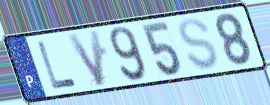5: (139, 19, 182, 78)
8: (215, 11, 253, 67)
9: (108, 25, 147, 83)
L: (35, 39, 78, 90)
S: (178, 16, 220, 71)
V: (65, 28, 107, 89)
